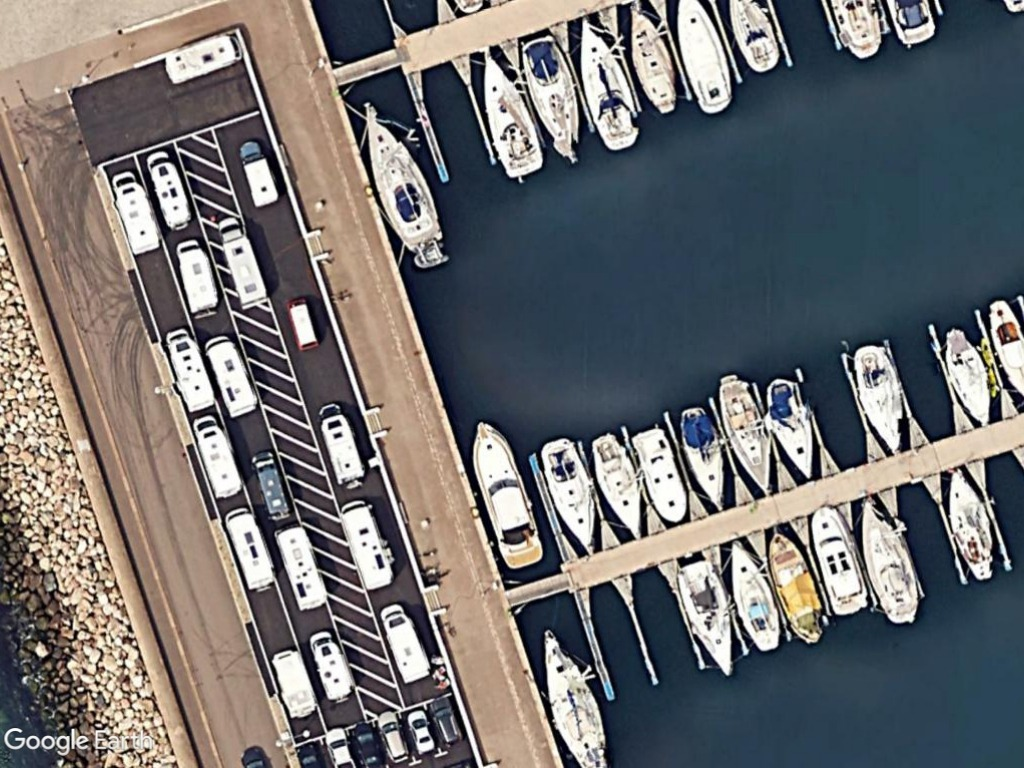boat: (354, 99, 447, 255), (466, 414, 550, 567), (537, 617, 611, 768), (852, 488, 927, 628), (475, 44, 546, 183), (572, 15, 642, 154), (516, 29, 584, 170), (712, 368, 778, 501), (536, 428, 603, 559), (673, 554, 740, 678), (807, 499, 871, 622), (766, 527, 830, 648), (847, 338, 911, 458), (725, 536, 786, 653), (589, 430, 651, 545), (674, 0, 732, 117), (629, 420, 690, 531), (762, 370, 820, 484), (627, 4, 685, 117), (943, 465, 998, 584), (675, 400, 729, 512), (943, 323, 995, 432)
car: (376, 703, 414, 765), (426, 696, 466, 749), (352, 718, 382, 768), (407, 705, 435, 757)
truck: (233, 136, 283, 212)
van: (338, 498, 398, 596), (213, 212, 270, 305), (203, 326, 260, 416), (376, 601, 434, 687), (223, 504, 278, 594), (163, 322, 215, 416), (142, 147, 196, 236), (109, 169, 163, 258), (315, 400, 369, 487), (191, 414, 244, 502), (172, 236, 221, 318), (307, 629, 353, 706)
